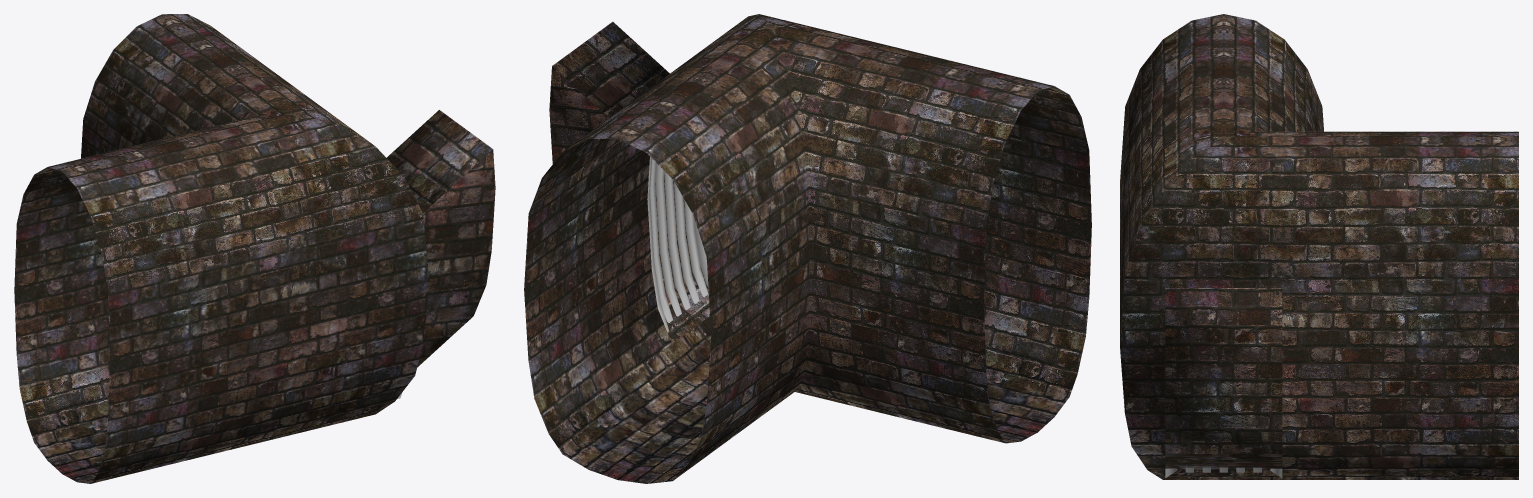
The model's file is wall_tunnel_left.DAE.
3 views of the same model, side by side, from view 1: azimuth 30°, elevation 25°; view 2: azimuth 150°, elevation 25°; view 3: azimuth 270°, elevation 25° (orthographic). The views are drawn at different scales.
Visible parts, largest first — view 1: Box003; view 2: Box003, grate; view 3: Box003, grate.
Boxes of the visible parts, x1=… form: Box003: x1=14, y1=14, x2=495, y2=483; Box003: x1=524, y1=14, x2=1091, y2=483; grate: x1=647, y1=157, x2=708, y2=332; Box003: x1=1120, y1=14, x2=1518, y2=479; grate: x1=1165, y1=467, x2=1282, y2=477.
Bounding box in the file's own units: 3.44 × 2.45 × 2.7.
